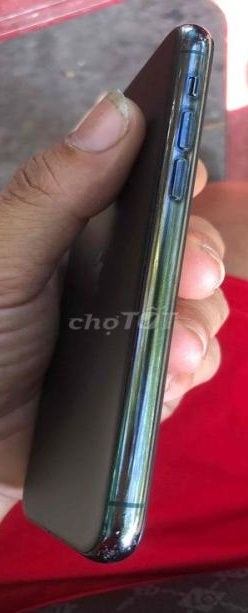scratch: (158, 20, 200, 284), (94, 474, 154, 565)
